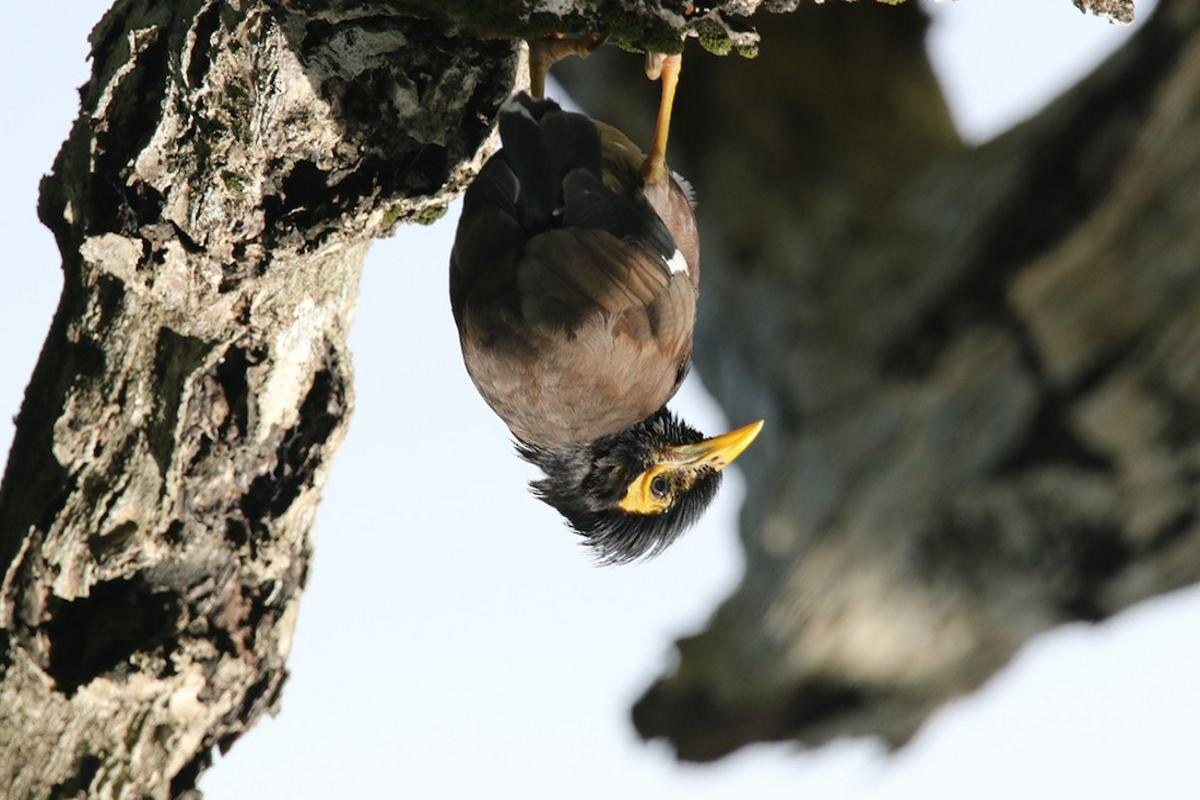myna: (457, 17, 801, 602)
